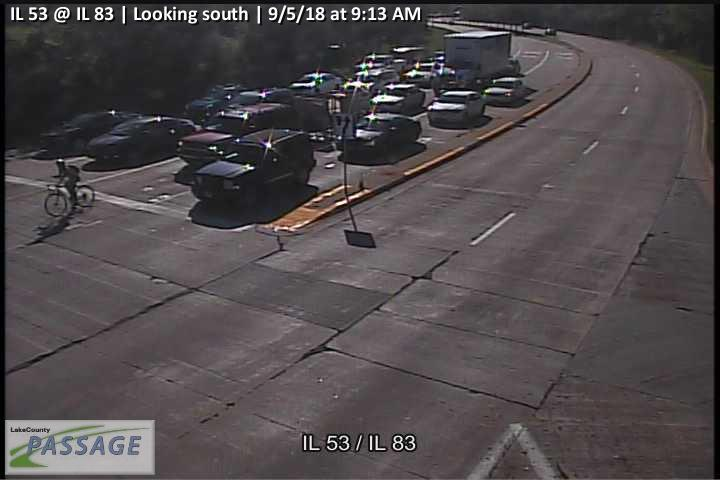Sedan: (188, 128, 316, 203), (84, 117, 207, 159), (38, 109, 149, 154), (336, 114, 421, 156), (181, 82, 250, 121), (427, 87, 487, 129), (286, 71, 345, 99), (483, 74, 527, 106)
Truck: (369, 83, 435, 112)
